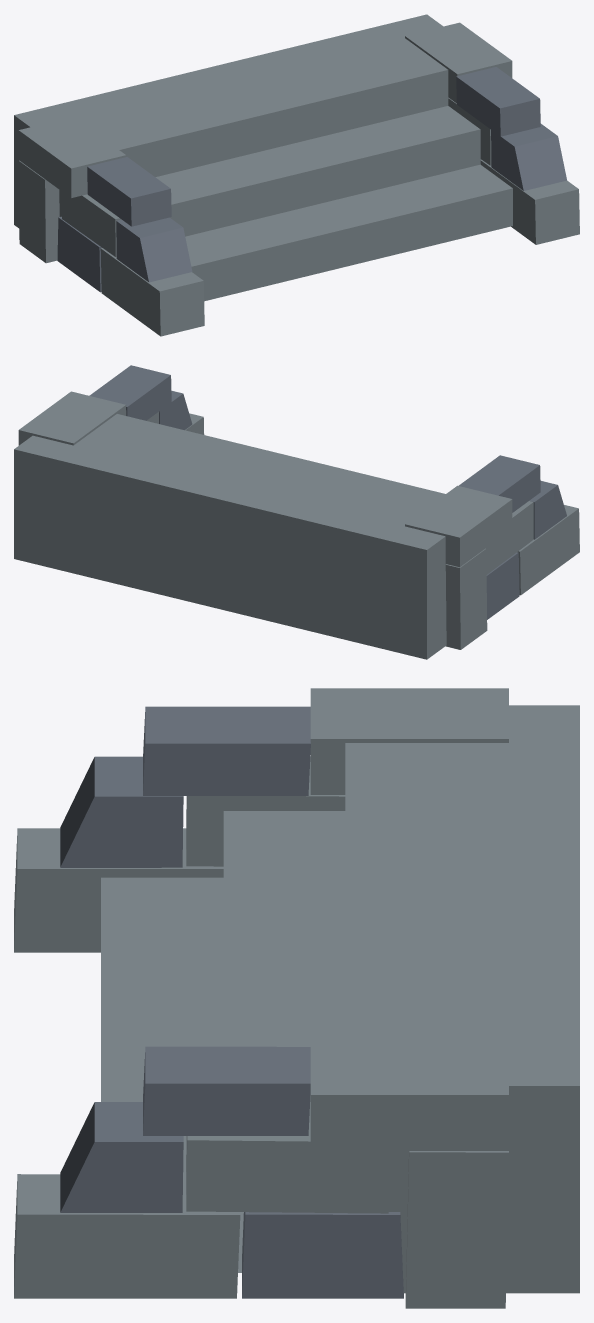
File: Stairs.glb
3 renders of one model, top to bottom at view 1: azimuth 30°, elevation 25°; view 2: azimuth 150°, elevation 25°; view 3: azimuth 270°, elevation 25°, orthographic. The views are drawn at different scales.
Visible parts, largest first — view 1: Stairs; view 2: Stairs; view 3: Stairs.
Part boxes in pixels (x1,y1,x2,y2): Stairs: (14,14,579,336); Stairs: (14,365,579,659); Stairs: (14,688,579,1308).
Bounding box in the file's own units: 0.5014 × 0.123 × 0.2949.
